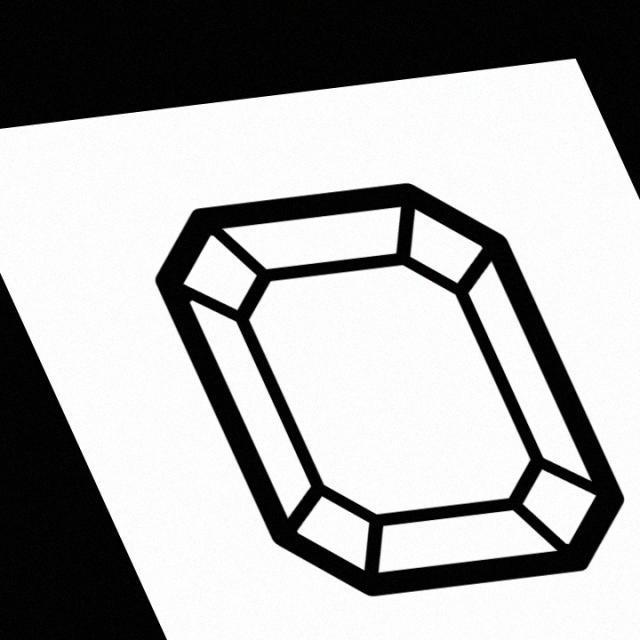emerald: (144, 178, 631, 612)
